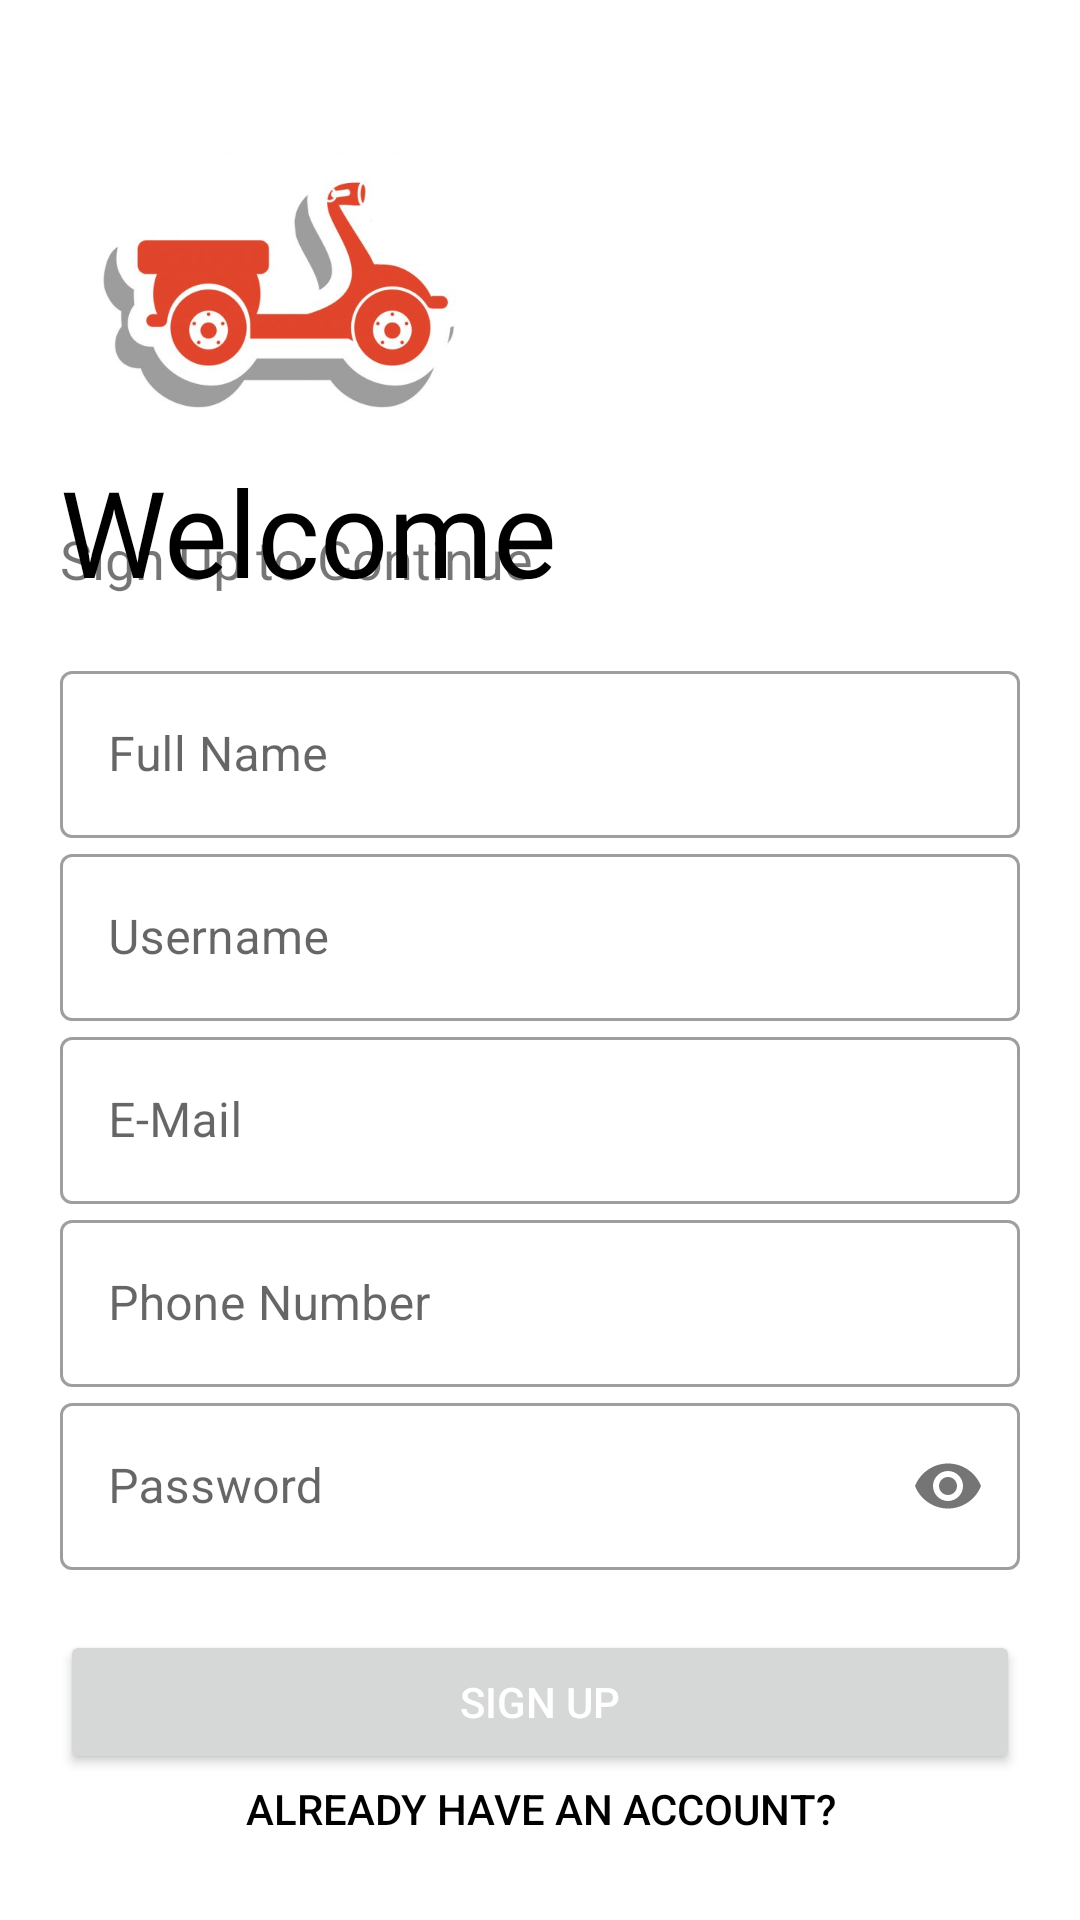

Icons on this 1080 x 1920 Android screen, each with the point to tap as point (x, y):
kurye: point (278, 294)
